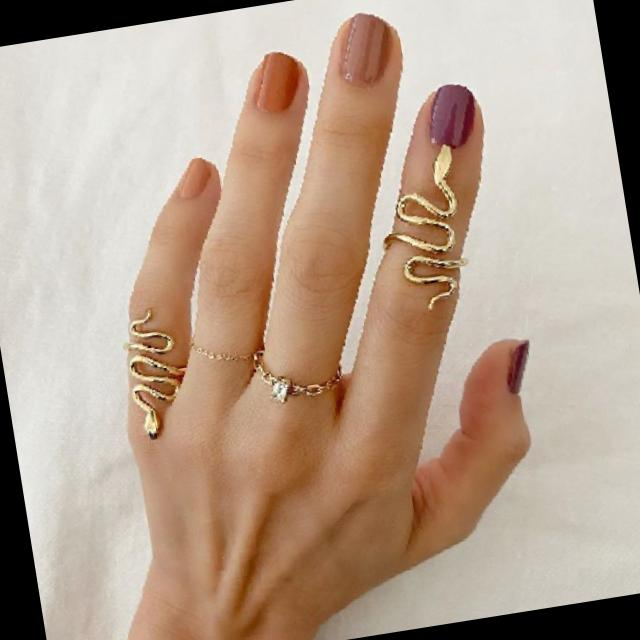Nail: (340, 13, 392, 88), (429, 84, 475, 148), (256, 52, 300, 113), (176, 157, 212, 199), (507, 340, 530, 394)
